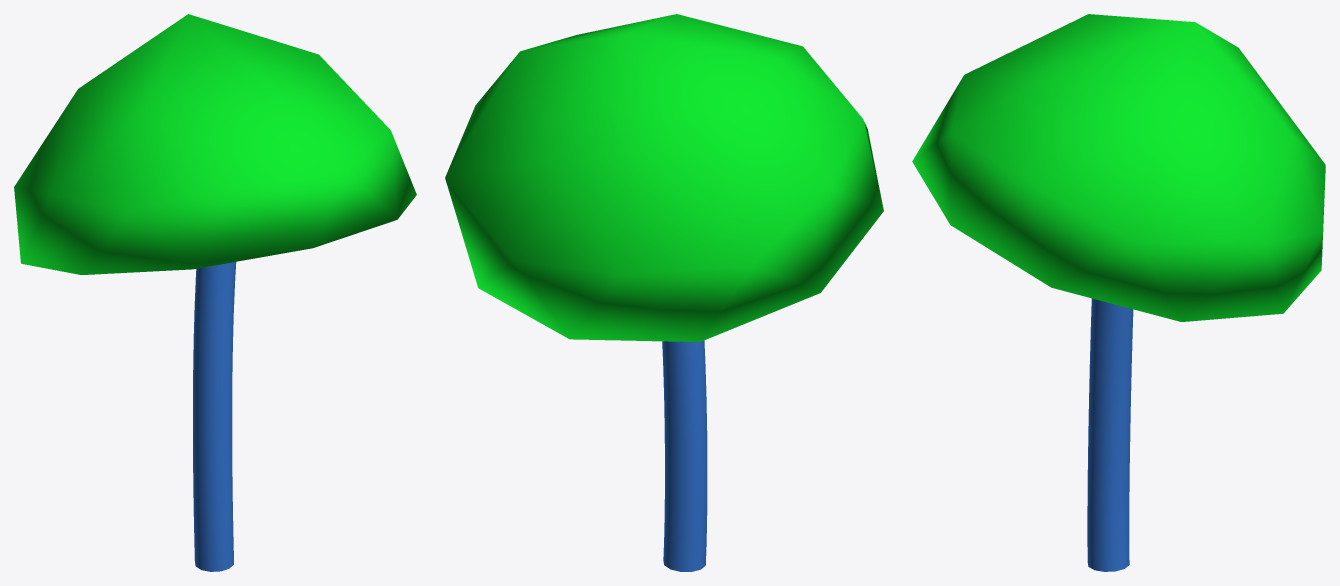
The model's file is hongoPeq1-0.fbx.
3 views of the same model, side by side, from view 1: azimuth 30°, elevation 25°; view 2: azimuth 150°, elevation 25°; view 3: azimuth 270°, elevation 25° (orthographic). The views are drawn at different scales.
Visible parts, largest first — view 1: Esfera geodésica.003, Curva Bezier.003; view 2: Esfera geodésica.003, Curva Bezier.003; view 3: Esfera geodésica.003, Curva Bezier.003.
Boxes of the visible parts, <box> form: Esfera geodésica.003: <box>14,14,416,274</box>; Curva Bezier.003: <box>193,262,236,571</box>; Esfera geodésica.003: <box>445,14,883,342</box>; Curva Bezier.003: <box>662,340,707,571</box>; Esfera geodésica.003: <box>912,14,1325,321</box>; Curva Bezier.003: <box>1087,298,1133,571</box>.
Bounding box in the file's own units: 196 × 284 × 194.
